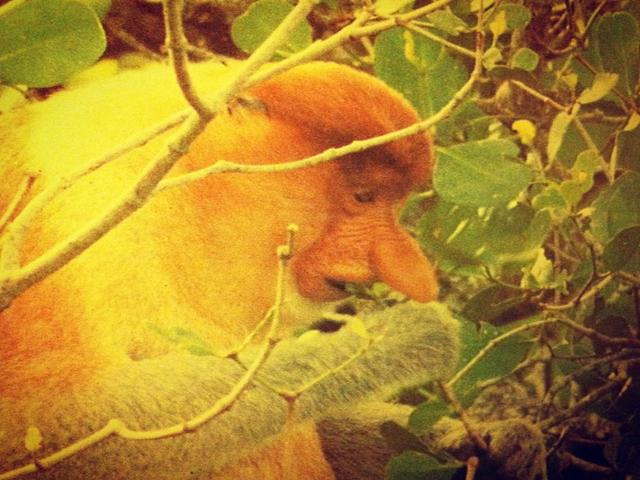monkey: (30, 32, 478, 381)
